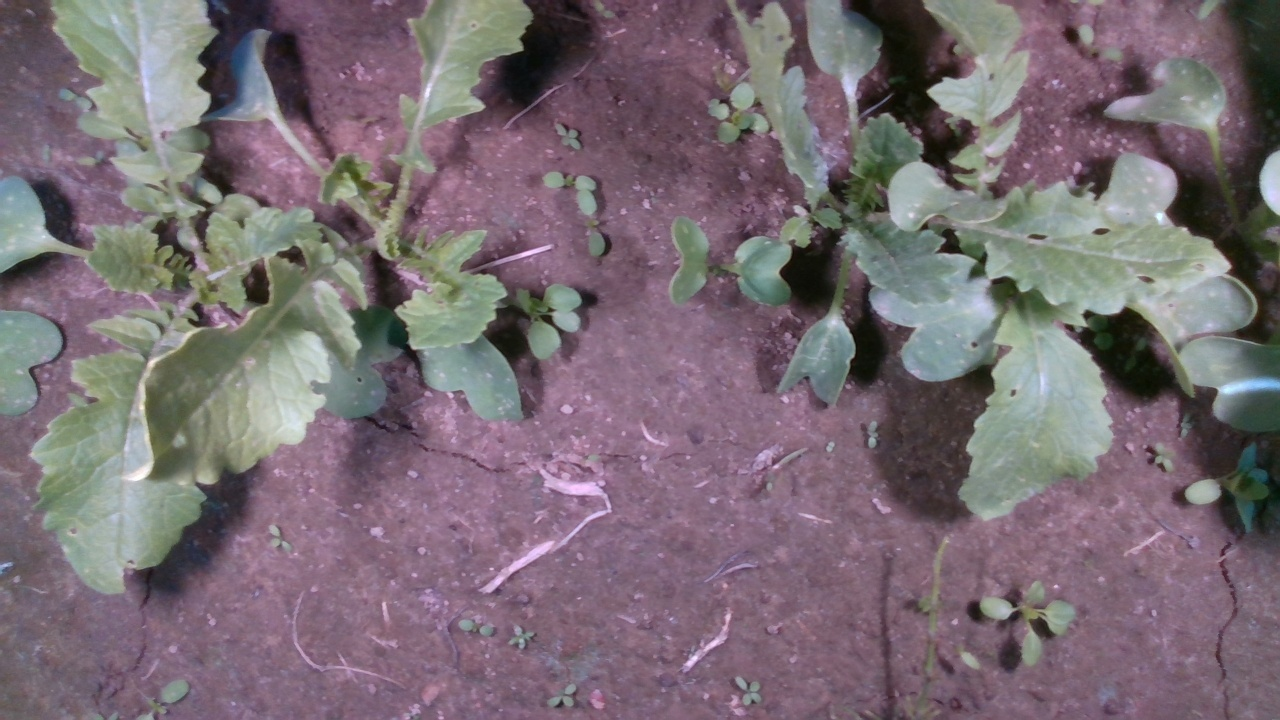weed: (552, 121, 584, 152), (544, 682, 578, 709), (733, 675, 763, 705), (507, 622, 538, 649), (266, 523, 292, 554), (457, 617, 495, 637), (1153, 440, 1175, 474)
